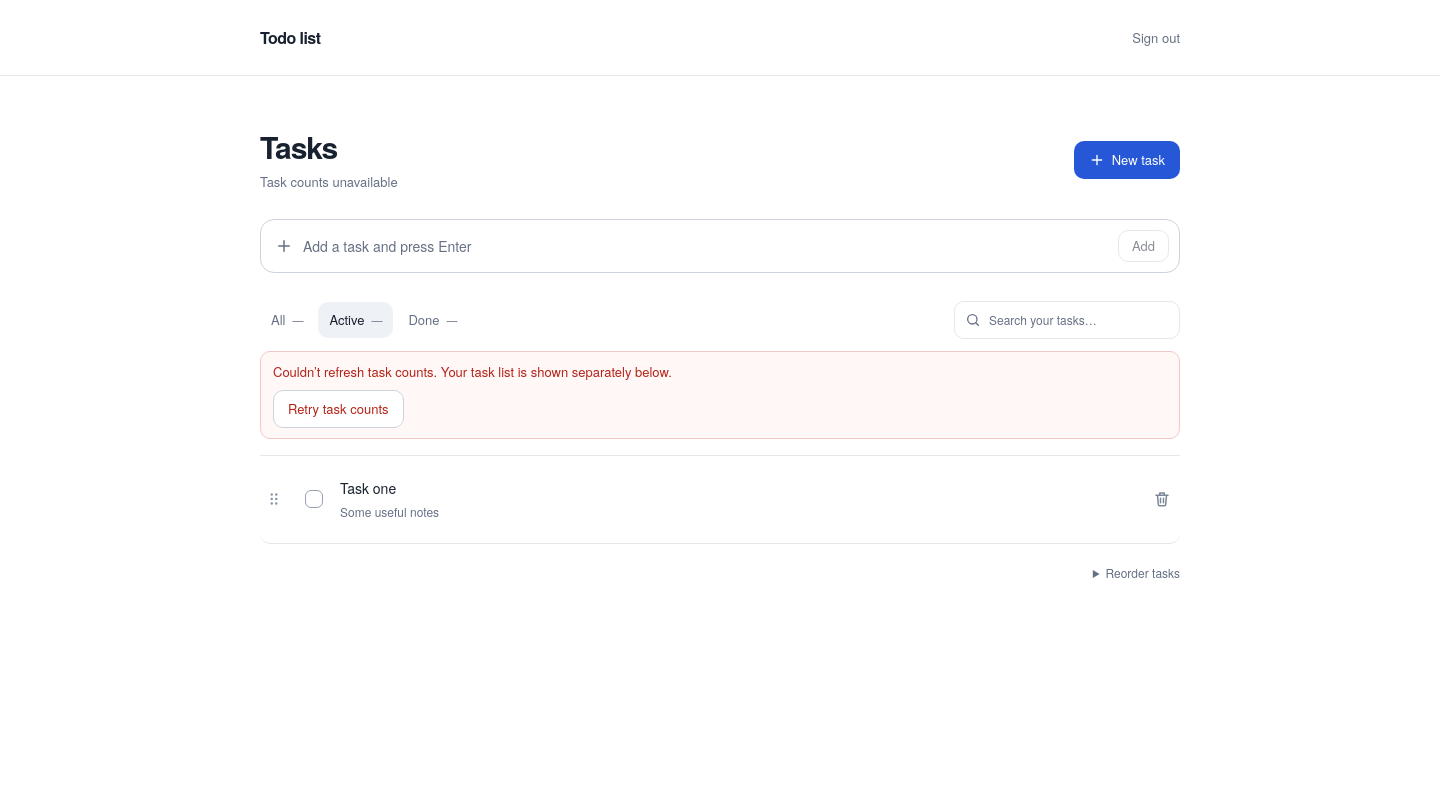
Test: task list › shows unavailable counts when their request fails and retries independently of the filtered list
Expected: the text "Task one" is shown, [340,478,396,498]
Expected: the message shows "Couldn’t refresh task counts", [273,362,672,381]
Click the button "Retry task counts".
click(338, 408)  # box [273,390,404,428]
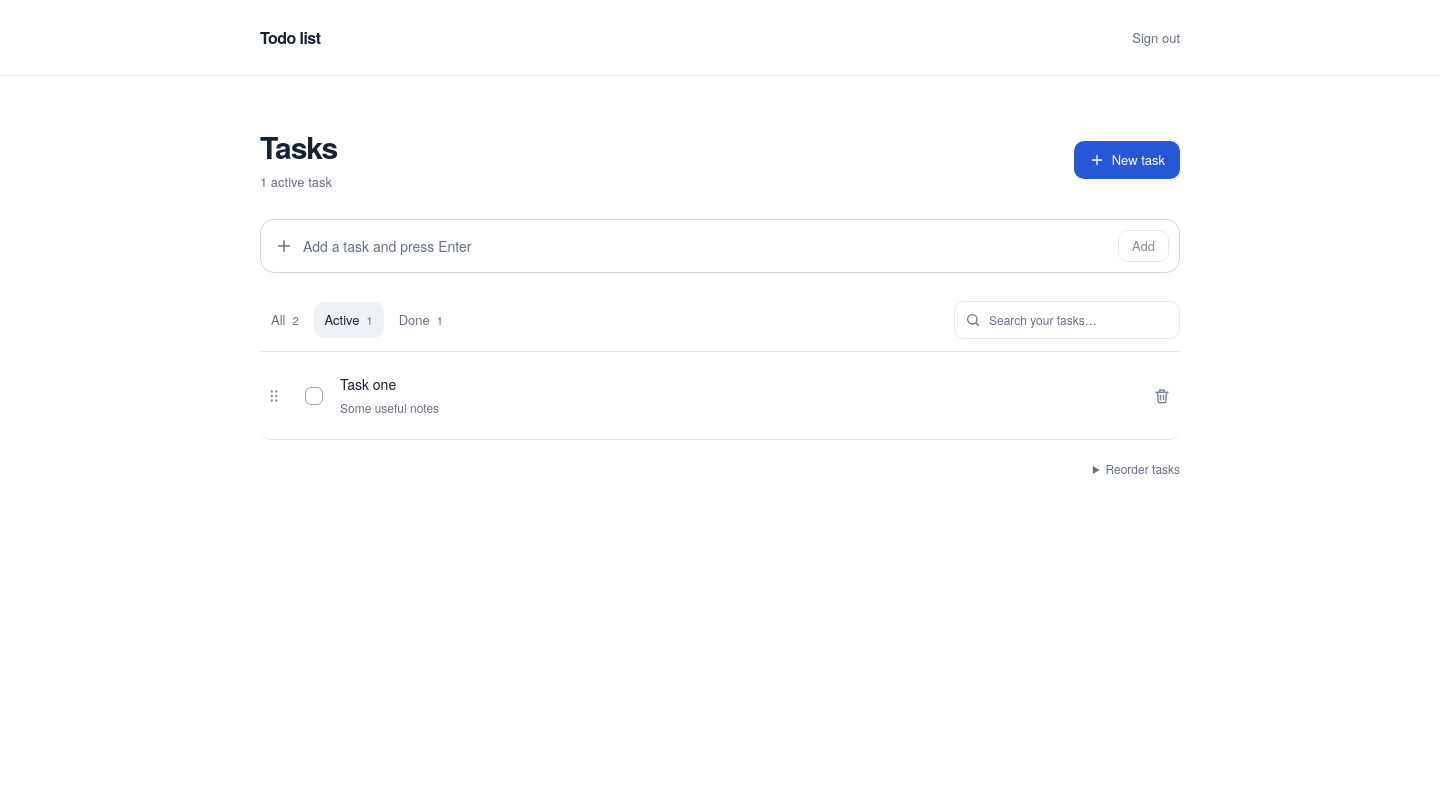
Result: the message is gone
Result: the text "1 active task" is shown at [260,172,337,191]
Result: the tab "All 2" is shown at [260,302,310,338]
